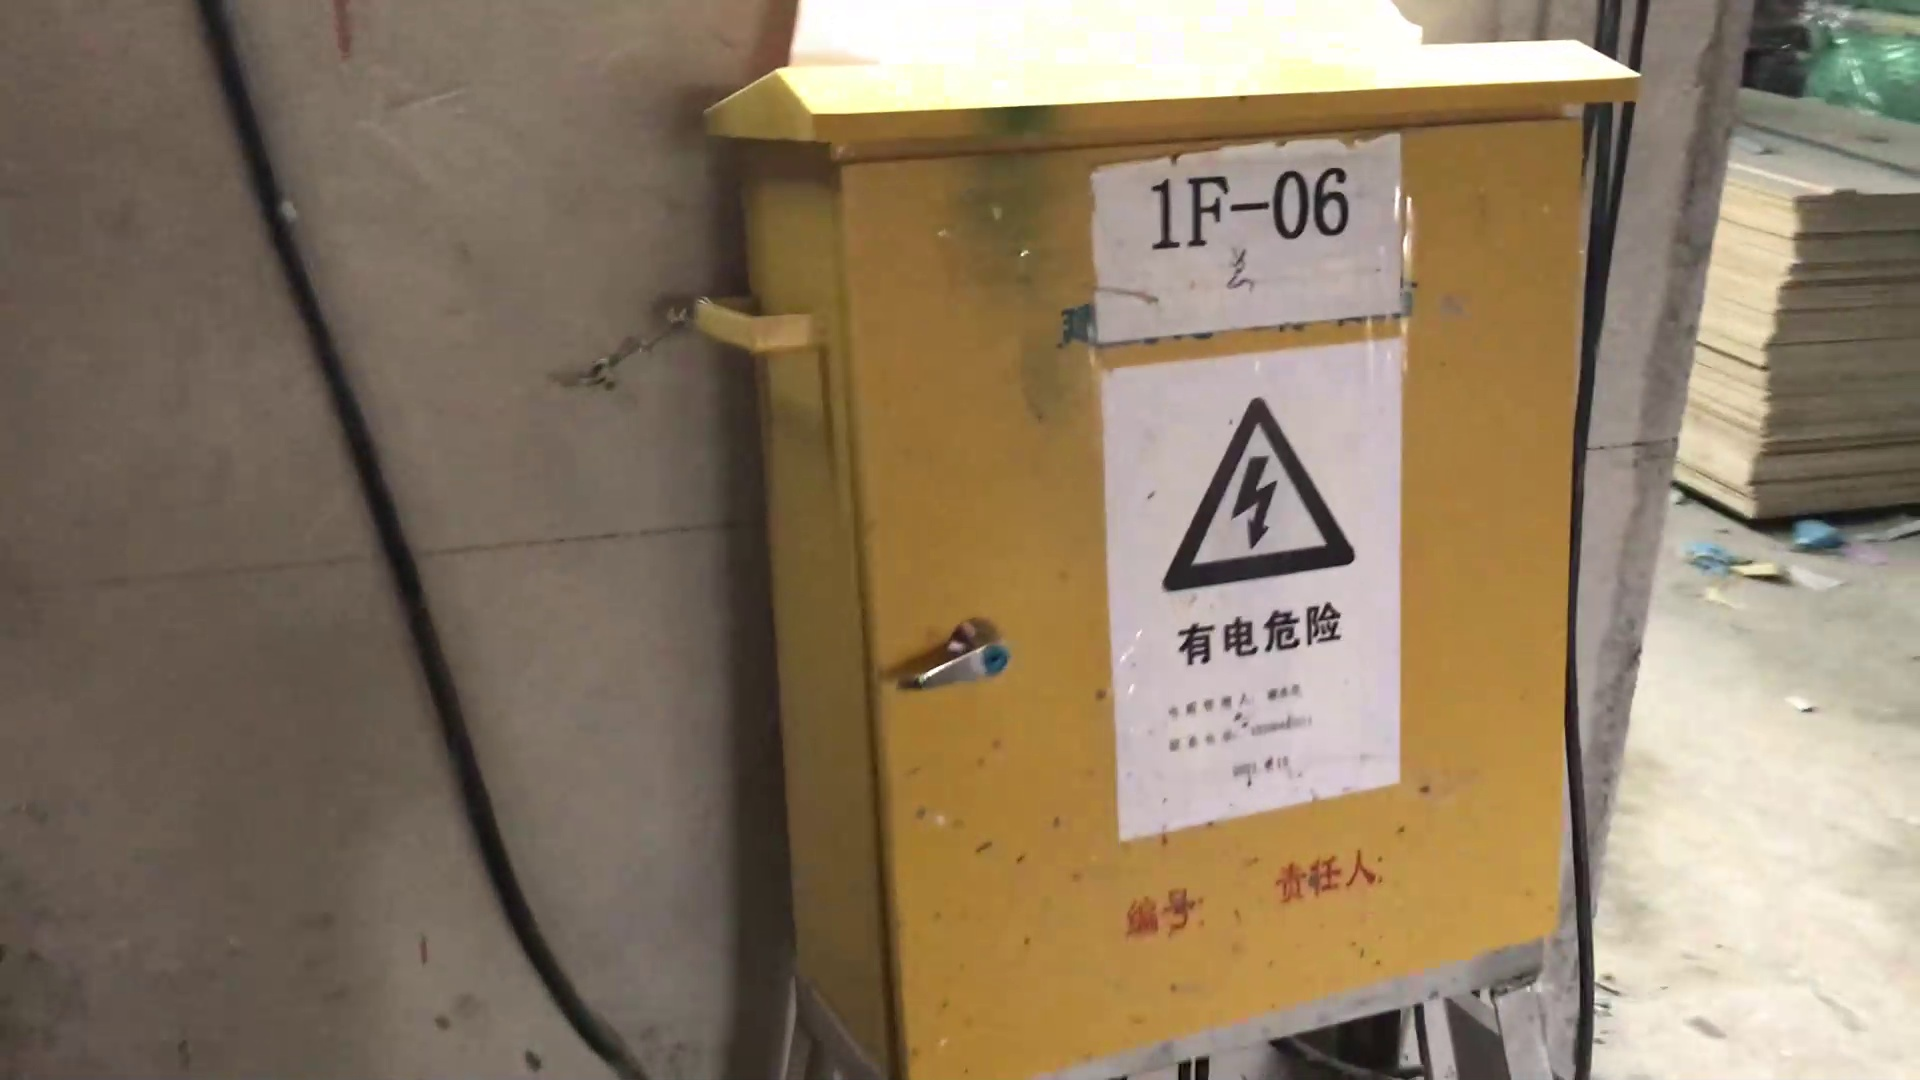board: (1665, 69, 1920, 531)
ebox: (669, 17, 1610, 1080)
